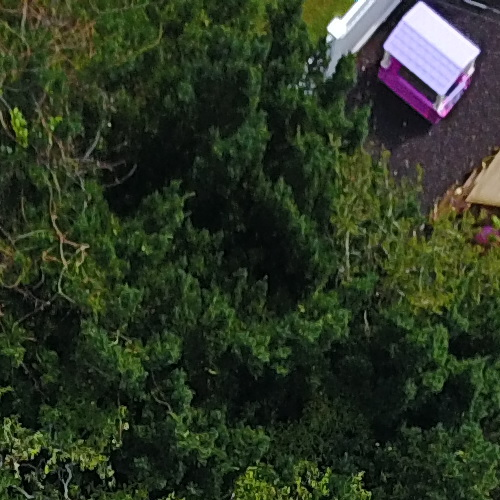toy: (367, 1, 477, 156)
